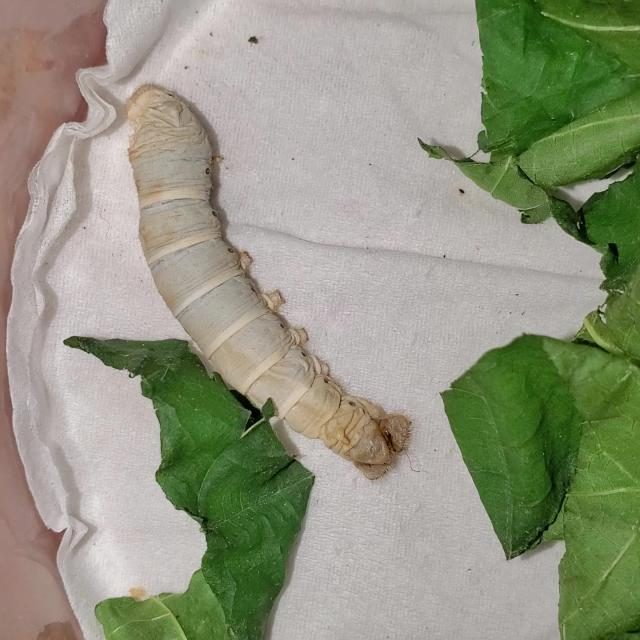Grasserie: (89, 48, 451, 532)
